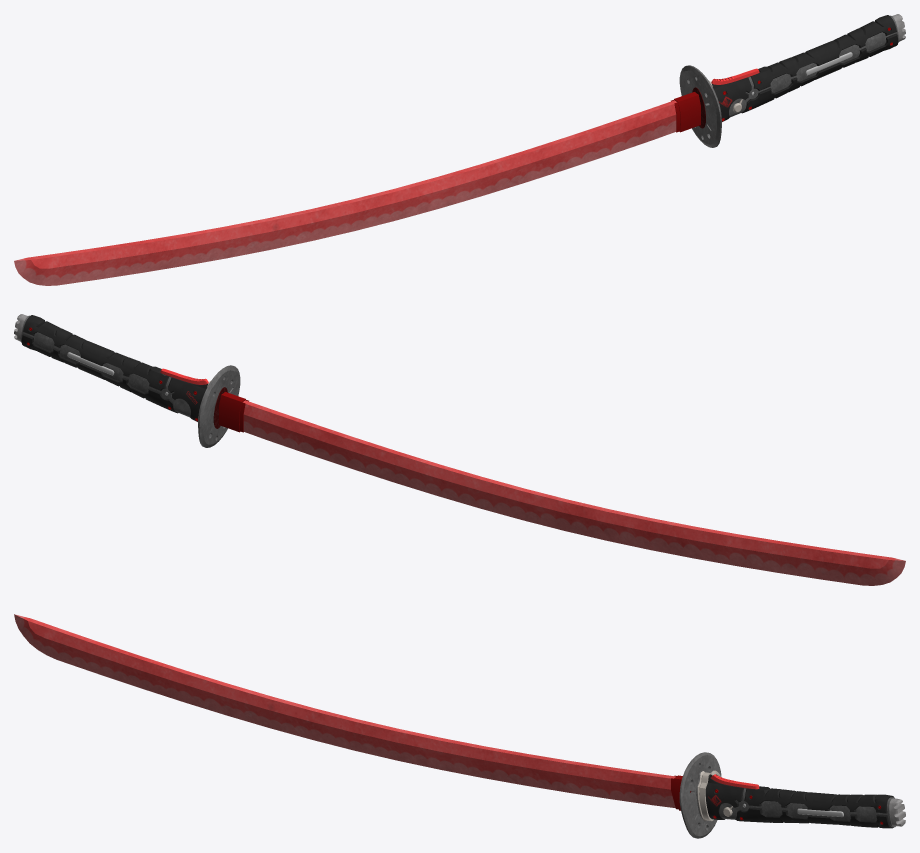
Rendered from wep7.glb.
3 renders of one model, top to bottom at view 1: azimuth 30°, elevation 25°; view 2: azimuth 150°, elevation 25°; view 3: azimuth 330°, elevation 25°, orthographic.
Bounding box in the file's own units: 4.94 × 0.4483 × 0.385.
1 material, 1 textured.
